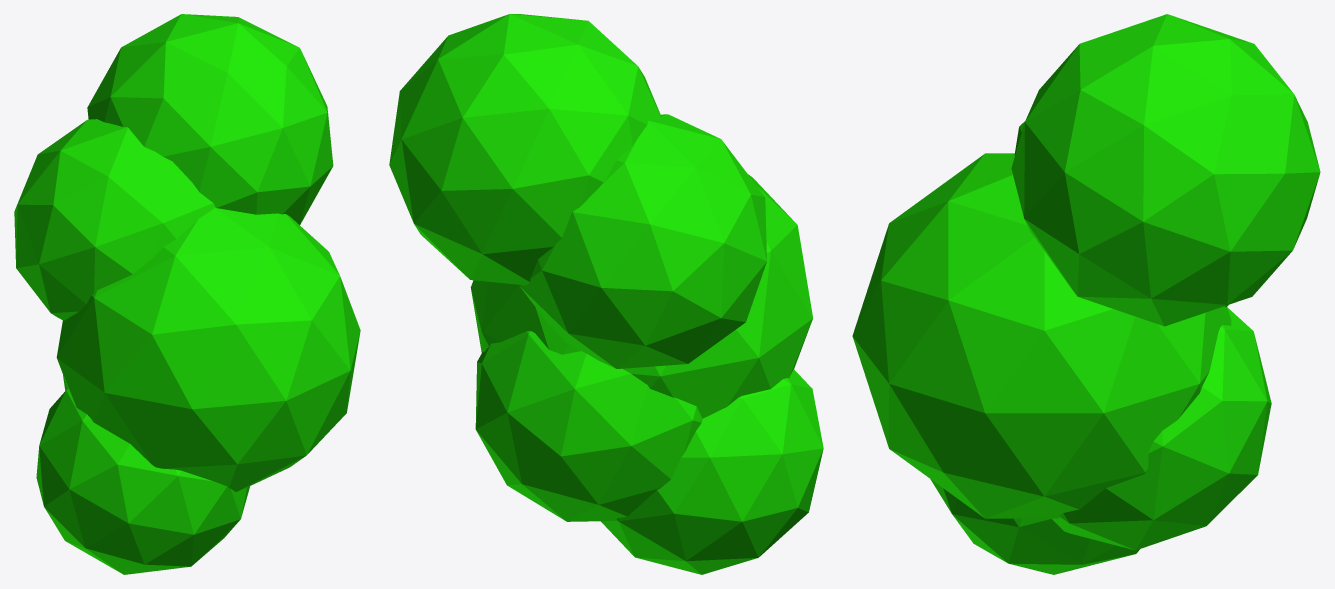
File: bush 9.fbx
3 renders of one model, left to right at view 1: azimuth 30°, elevation 25°; view 2: azimuth 150°, elevation 25°; view 3: azimuth 270°, elevation 25°, orthographic. The views are drawn at different scales.
Visible parts, largest first — view 1: Icosphere.009; view 2: Icosphere.009; view 3: Icosphere.009.
Boxes of the visible parts, bbox=[...] form: Icosphere.009: bbox=[14, 14, 360, 574]; Icosphere.009: bbox=[389, 14, 823, 574]; Icosphere.009: bbox=[852, 14, 1320, 574].
Size of the model in its own units: 231 by 341 by 244.
